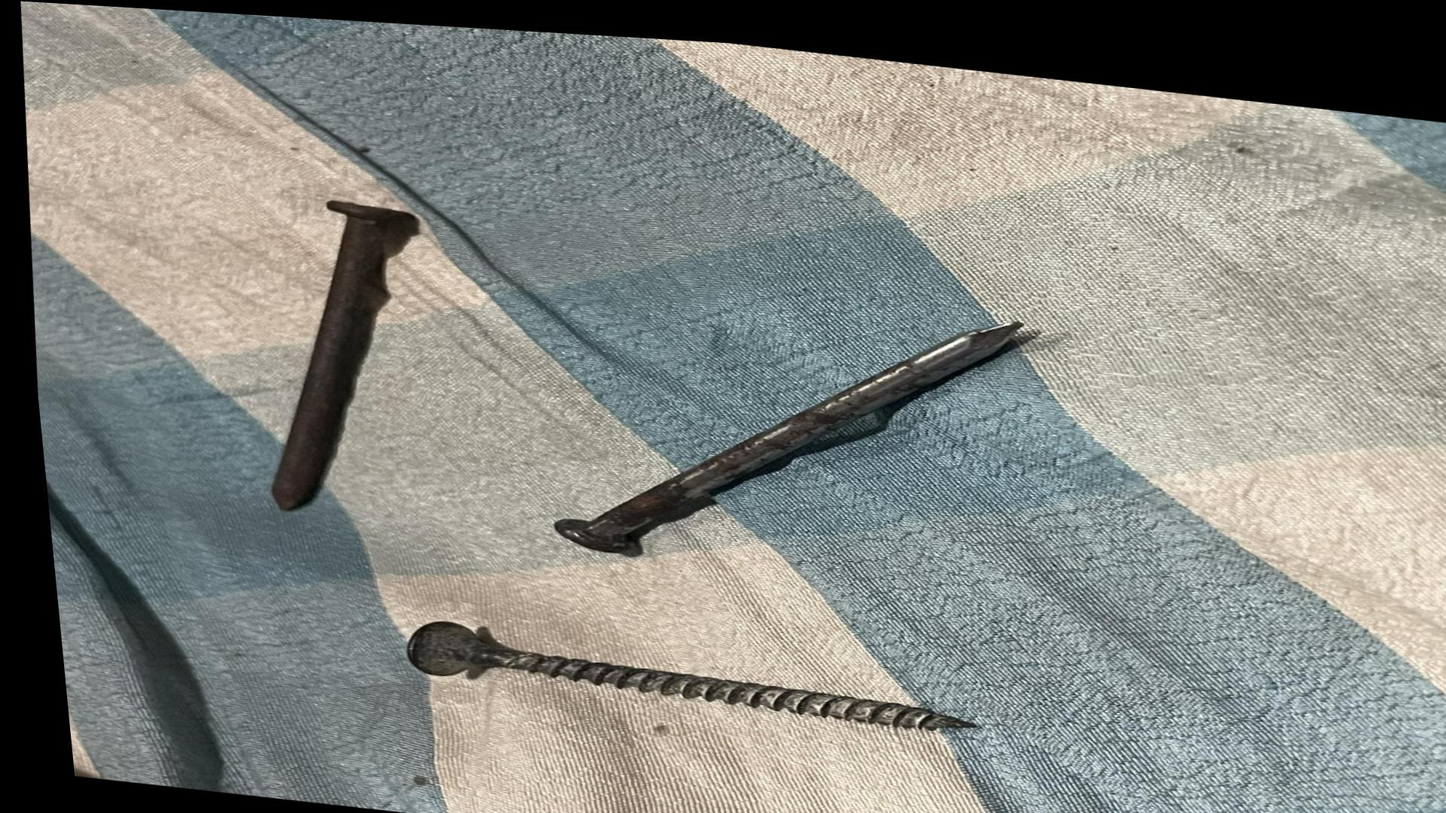nail: (505, 245, 1128, 626), (187, 162, 490, 544)
screw: (301, 585, 1044, 768)
